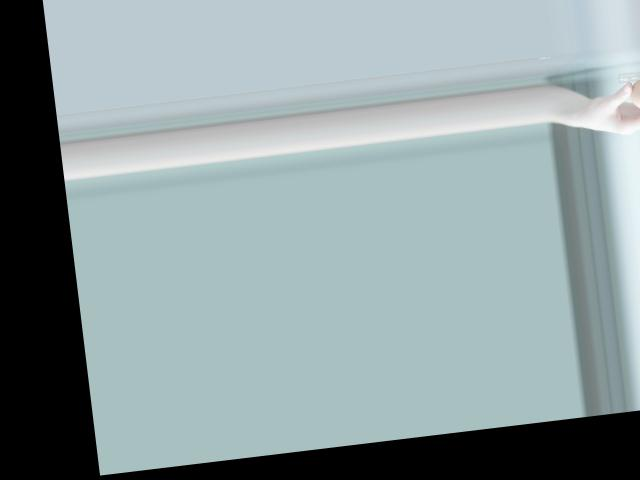egg: (628, 76, 640, 111)
